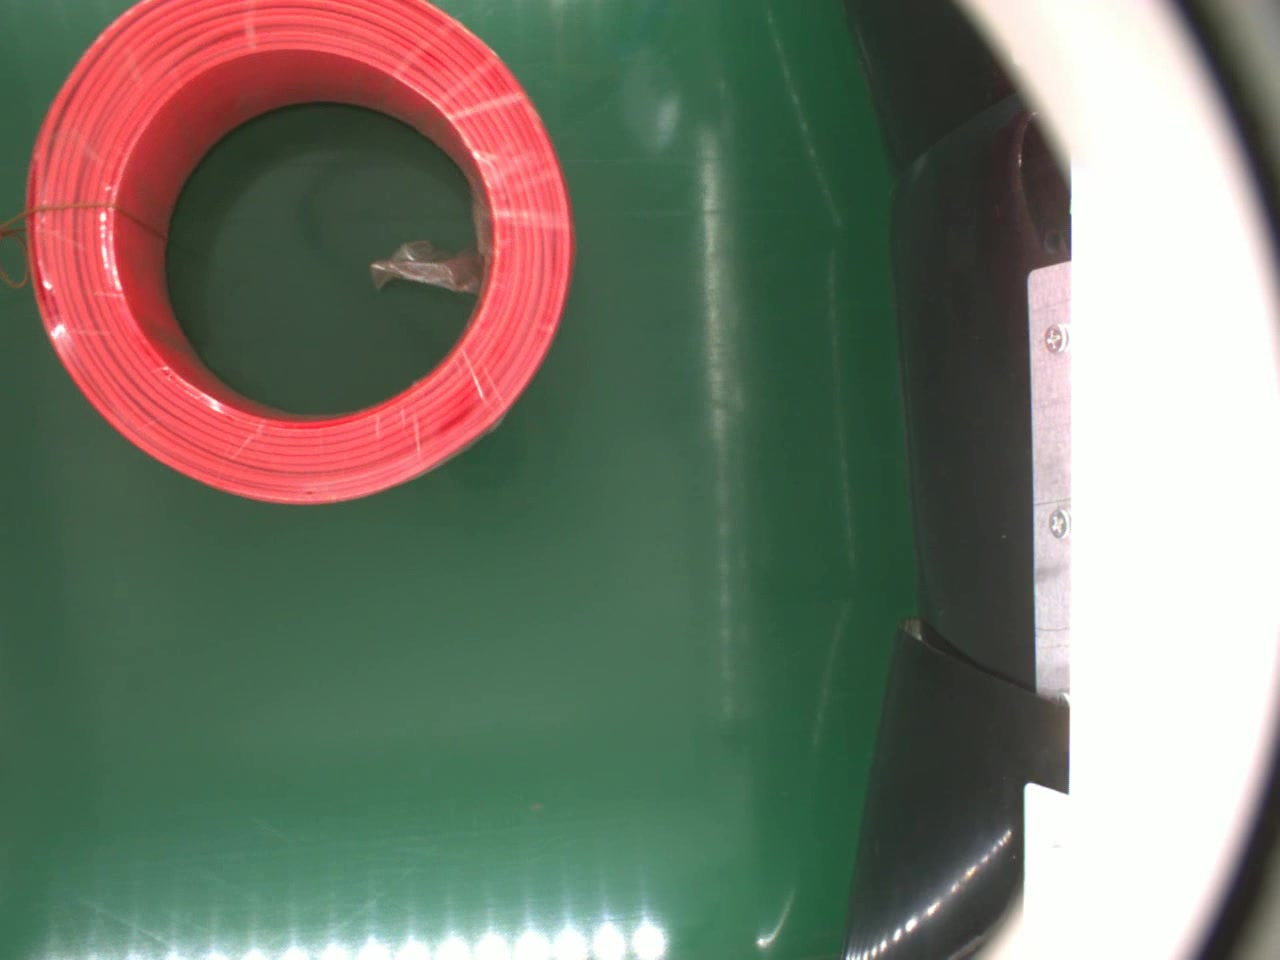red: (21, 0, 574, 514)
